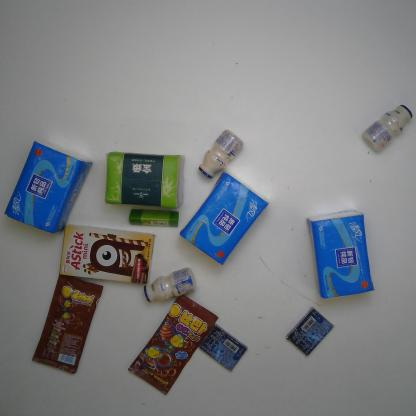Candy: (127, 294, 218, 396), (31, 273, 104, 375)
Dessert: (57, 223, 156, 284)
Gum: (286, 307, 336, 357), (198, 323, 247, 373)
Milk: (361, 104, 414, 152), (198, 127, 244, 180), (141, 265, 197, 306)
Stationery: (129, 208, 180, 228)
Tissue: (179, 169, 268, 266), (5, 138, 93, 236), (306, 211, 376, 300), (104, 150, 186, 209)
